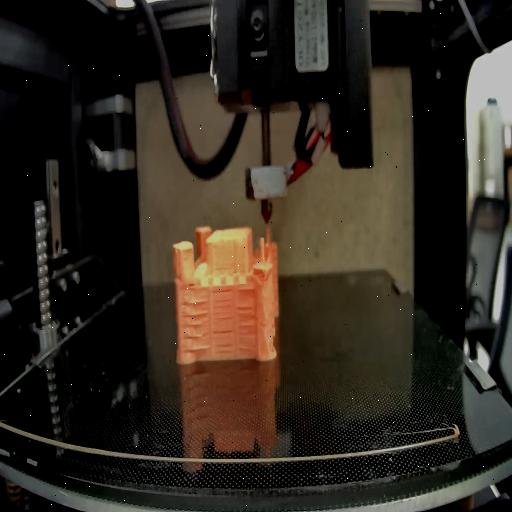cracks: (184, 300, 210, 356), (236, 306, 258, 348), (212, 288, 233, 322), (214, 328, 232, 353), (236, 284, 260, 298), (216, 263, 238, 274), (186, 279, 198, 291)
